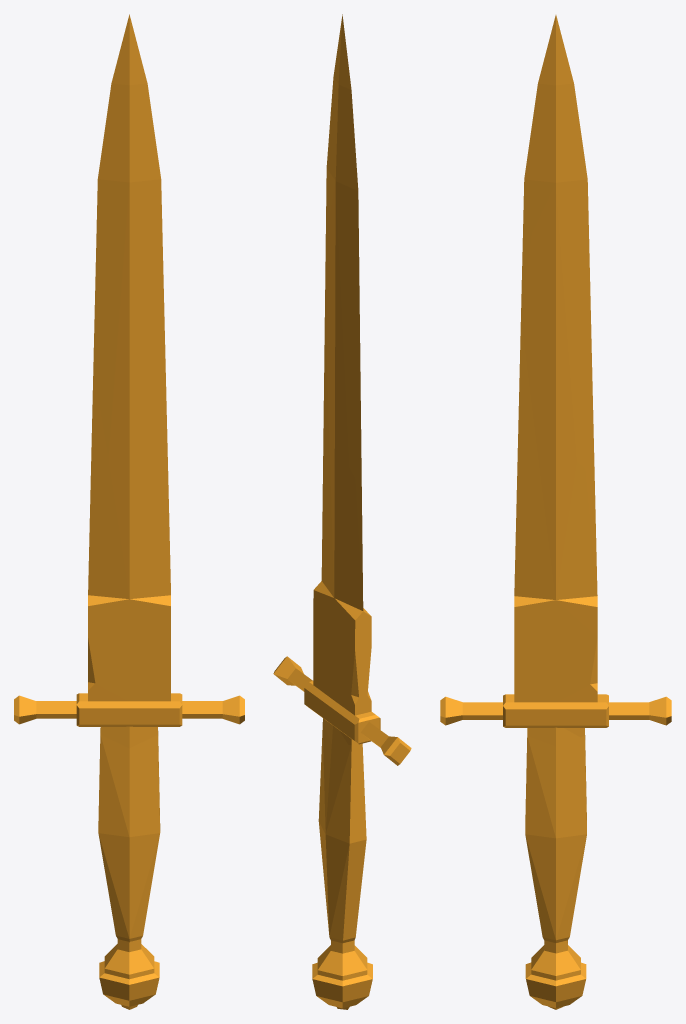
Rendered from SM_Dagger_C_Fantasy.fbx.
The picture shows the model from 3 angles, left to right: view 1: azimuth 90°, elevation 25°; view 2: azimuth 210°, elevation 25°; view 3: azimuth 270°, elevation 25°; orthographic projection.
Visible parts, largest first — view 1: dagger-c-medieval; view 2: dagger-c-medieval; view 3: dagger-c-medieval.
Boxes of the visible parts, x1,y1,x2,y2 form: dagger-c-medieval: (14, 14, 244, 1009); dagger-c-medieval: (273, 14, 411, 1009); dagger-c-medieval: (440, 15, 671, 1009).
Size of the model in its own units: 0.0348 by 0.5465 by 0.1153.
